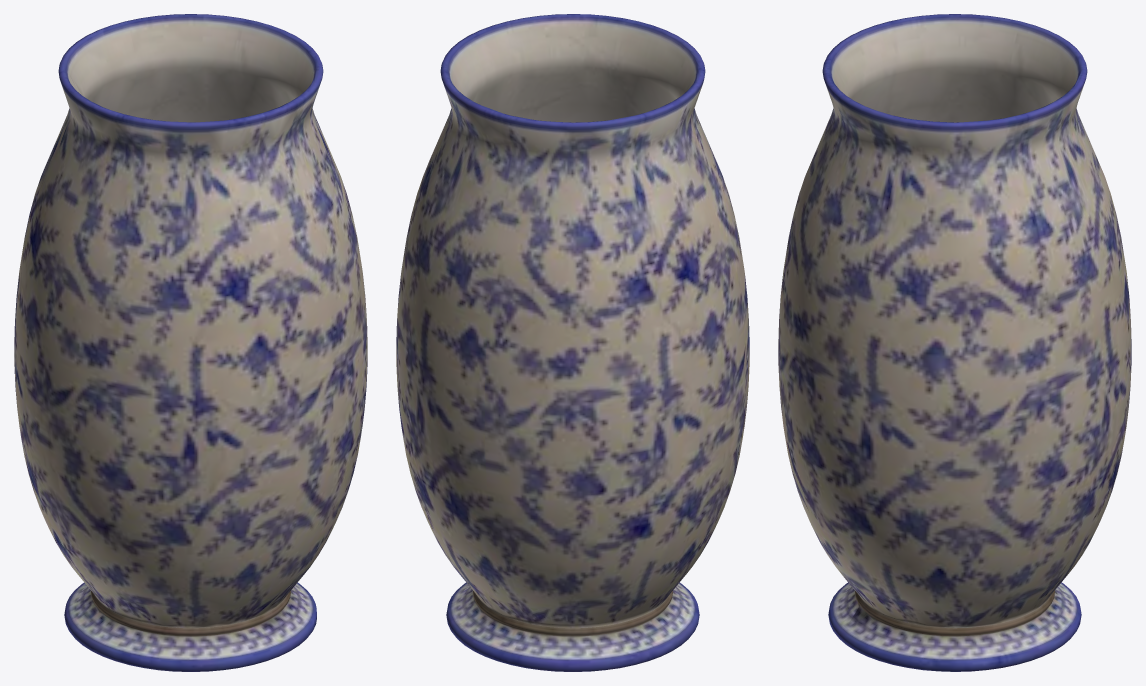
The model's file is antique_ceramic_vase_01.glb.
3 renders of one model, left to right at view 1: azimuth 30°, elevation 25°; view 2: azimuth 150°, elevation 25°; view 3: azimuth 270°, elevation 25°, orthographic.
Visible parts, largest first — view 1: antique_ceramic_vase_01; view 2: antique_ceramic_vase_01; view 3: antique_ceramic_vase_01.
Boxes of the visible parts, x1=… form: antique_ceramic_vase_01: x1=14, y1=14, x2=367, y2=671; antique_ceramic_vase_01: x1=396, y1=14, x2=749, y2=671; antique_ceramic_vase_01: x1=778, y1=14, x2=1131, y2=671.
Size of the model in its own units: 0.255 by 0.4396 by 0.255.
1 material, 1 textured.
